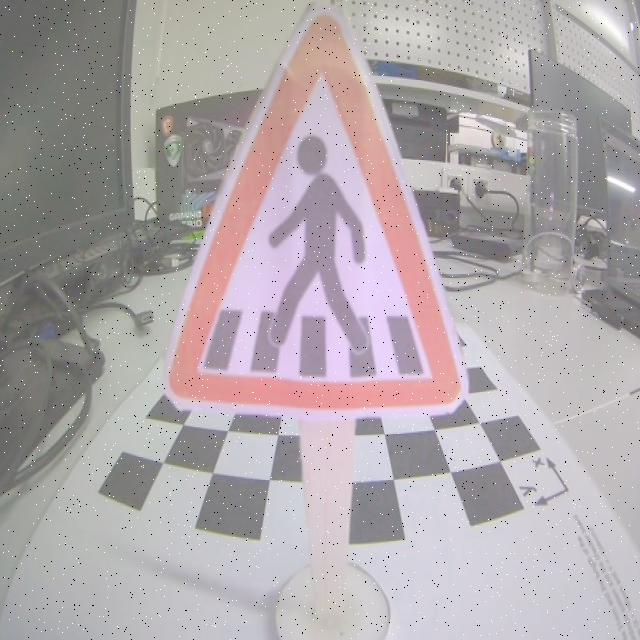Rambu Penyebrangan: (163, 0, 459, 419)
